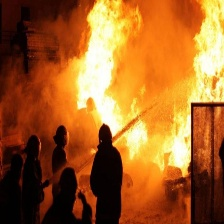fire: (83, 3, 148, 154), (169, 3, 224, 167)
smoke: (4, 3, 79, 138), (142, 1, 185, 105)
